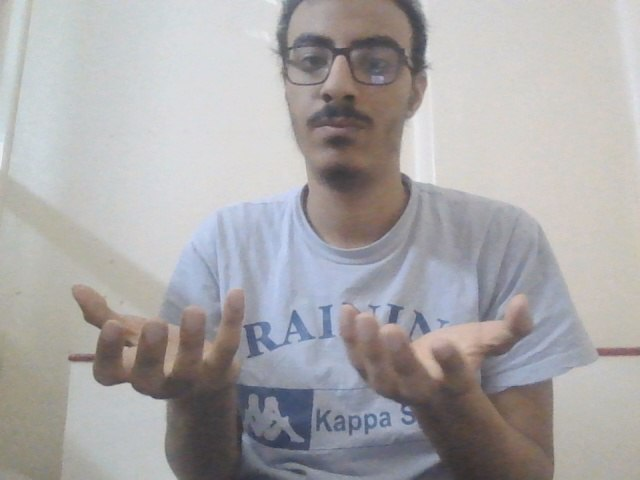What: (62, 268, 538, 412)
